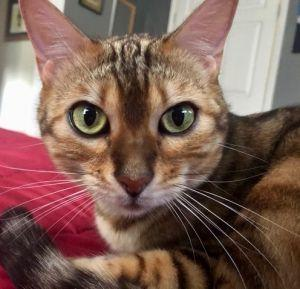bengal: (7, 1, 258, 215)
